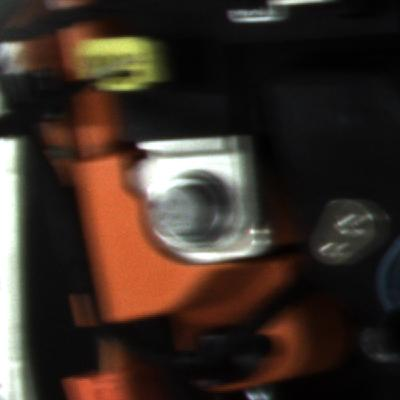nut_b: (137, 171, 236, 253)
